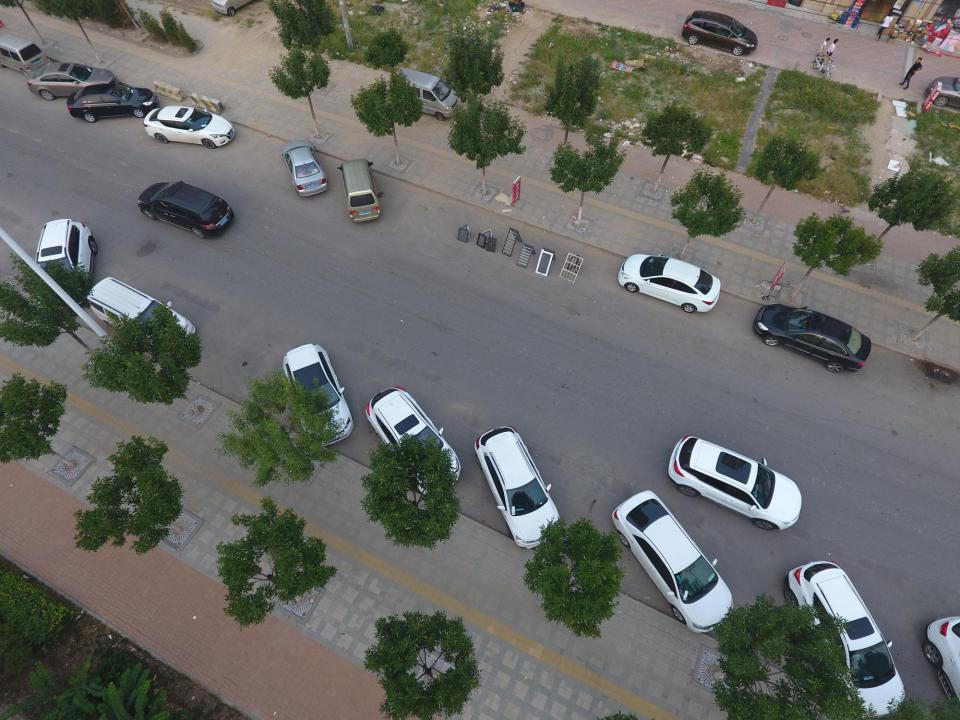car: (783, 559, 907, 717), (612, 490, 735, 634), (668, 435, 804, 533), (473, 425, 566, 550), (368, 388, 461, 496), (87, 276, 196, 354), (756, 303, 872, 373), (282, 344, 355, 448), (618, 252, 723, 316), (137, 180, 236, 238), (36, 217, 92, 299), (142, 104, 234, 148), (25, 63, 115, 104), (681, 8, 759, 54), (389, 68, 457, 120), (64, 87, 158, 121), (926, 615, 960, 704), (340, 160, 380, 224), (283, 139, 326, 196), (0, 36, 49, 73)
